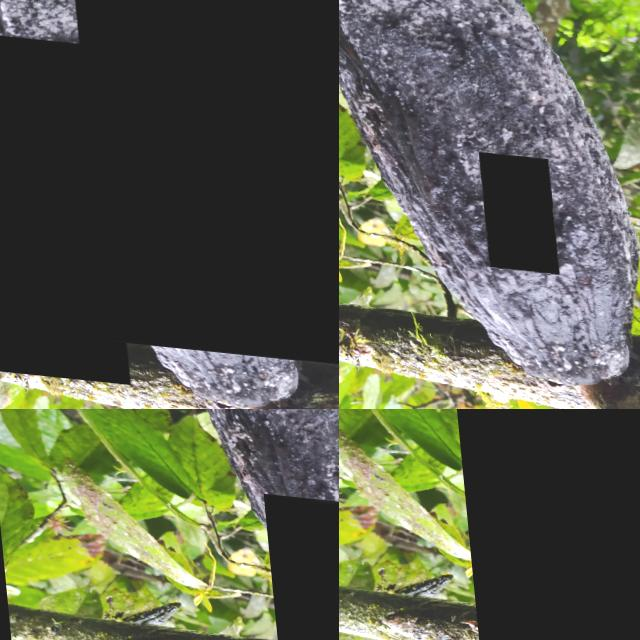Fitoftora: (433, 409, 640, 640), (257, 487, 339, 640)
Sana: (64, 0, 339, 356), (0, 18, 119, 378), (578, 162, 640, 333), (473, 144, 551, 266)
